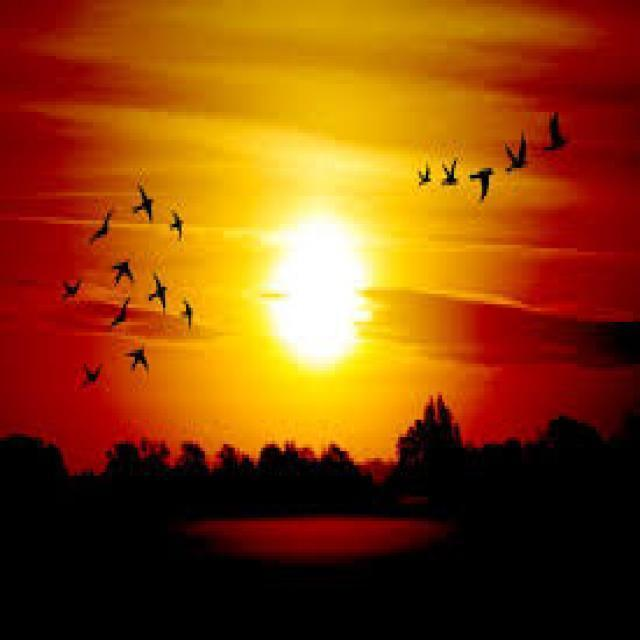bird: (127, 161, 162, 241), (402, 138, 438, 208), (42, 258, 84, 318), (538, 106, 576, 170), (498, 122, 528, 203), (466, 150, 505, 212), (120, 342, 166, 392), (437, 148, 468, 218), (164, 200, 194, 262), (81, 187, 112, 247), (72, 346, 107, 399), (99, 250, 141, 289), (171, 282, 204, 331), (140, 273, 168, 329), (104, 290, 138, 326)
